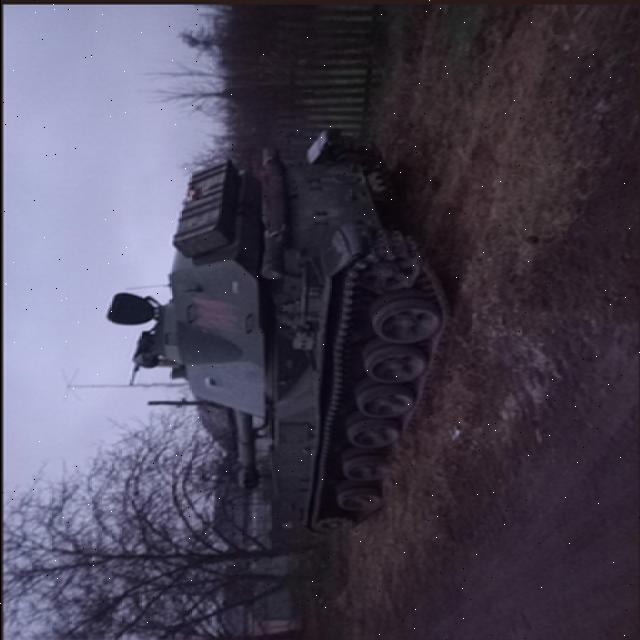ART: (93, 128, 464, 538)
